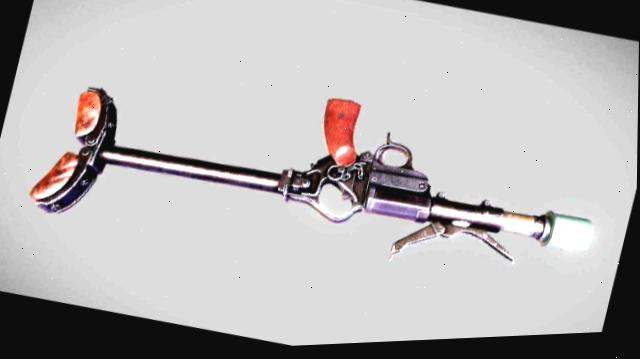rifle: (18, 13, 633, 348)
